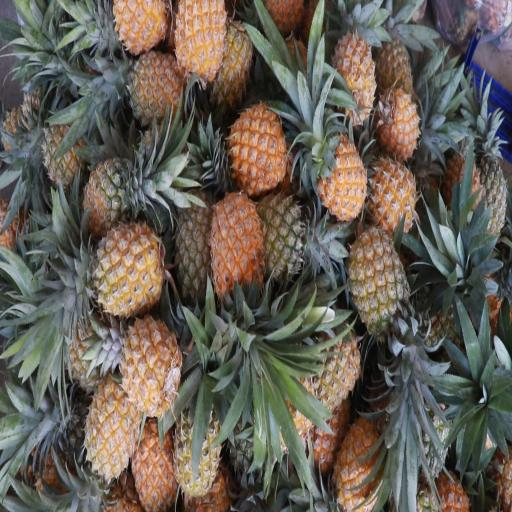------------------------------: (342, 224, 416, 348), (171, 387, 225, 499)
Pineapple - v8 v1: (80, 220, 166, 320), (208, 181, 266, 323), (117, 307, 186, 420), (83, 364, 143, 478), (220, 101, 288, 198), (328, 1, 378, 124), (112, 48, 185, 130), (335, 416, 394, 512), (314, 124, 369, 223), (78, 154, 142, 237), (173, 0, 229, 88), (368, 155, 419, 237), (379, 89, 422, 162), (114, 0, 169, 54)
